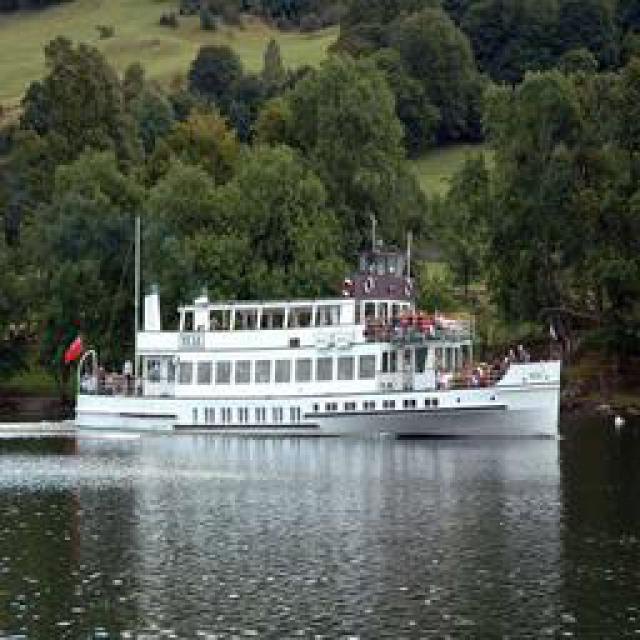Ship: (111, 235, 539, 440)
